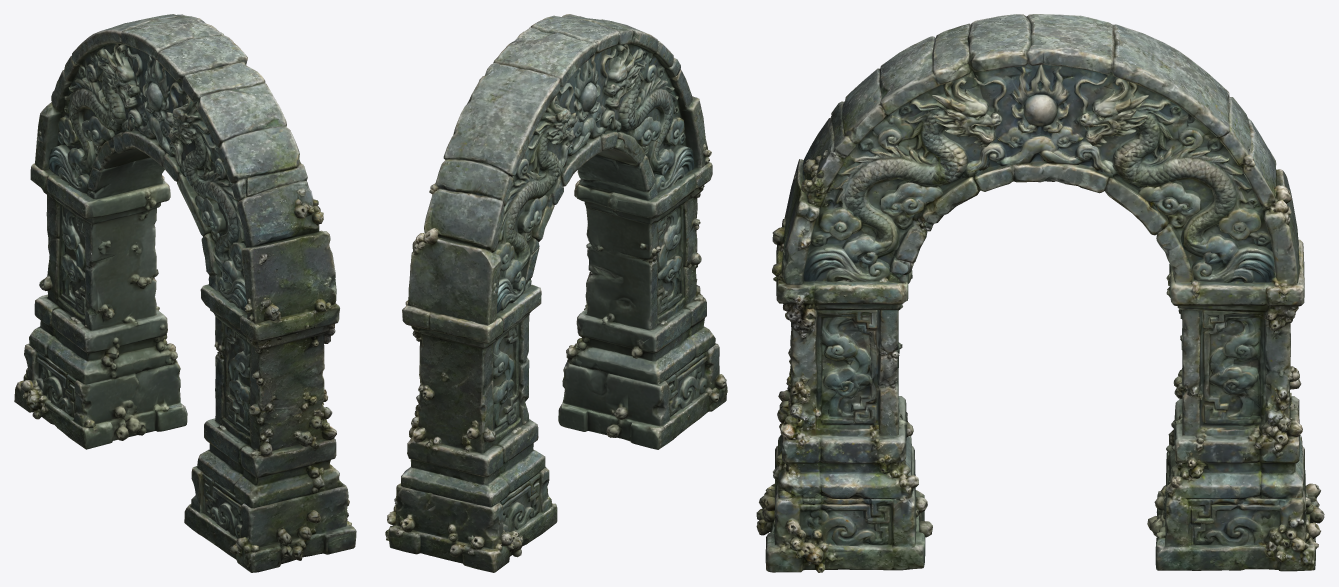
The model's file is T22_arch.glb.
The picture shows the model from 3 angles, left to right: view 1: azimuth 30°, elevation 25°; view 2: azimuth 150°, elevation 25°; view 3: azimuth 270°, elevation 25°; orthographic projection. The views are drawn at different scales.
Visible parts, largest first — view 1: tripo_node_e386965e-c5b5-481d-958a-057273c23d0f; view 2: tripo_node_e386965e-c5b5-481d-958a-057273c23d0f; view 3: tripo_node_e386965e-c5b5-481d-958a-057273c23d0f.
Boxes of the visible parts, bbox=[...] form: tripo_node_e386965e-c5b5-481d-958a-057273c23d0f: bbox=[14, 14, 356, 572]; tripo_node_e386965e-c5b5-481d-958a-057273c23d0f: bbox=[385, 14, 727, 572]; tripo_node_e386965e-c5b5-481d-958a-057273c23d0f: bbox=[756, 14, 1324, 572].
Size of the model in its own units: 0.285 by 0.9772 by 0.9784.
1 material, 1 textured.
